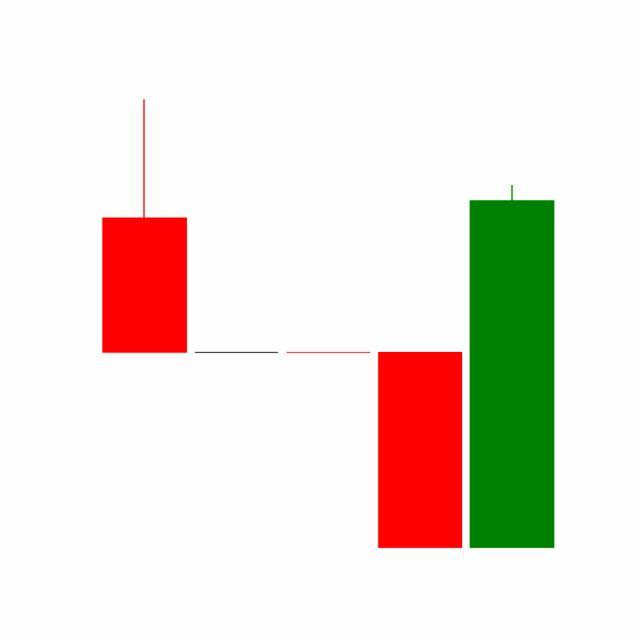Marubozu: (466, 182, 559, 553)
